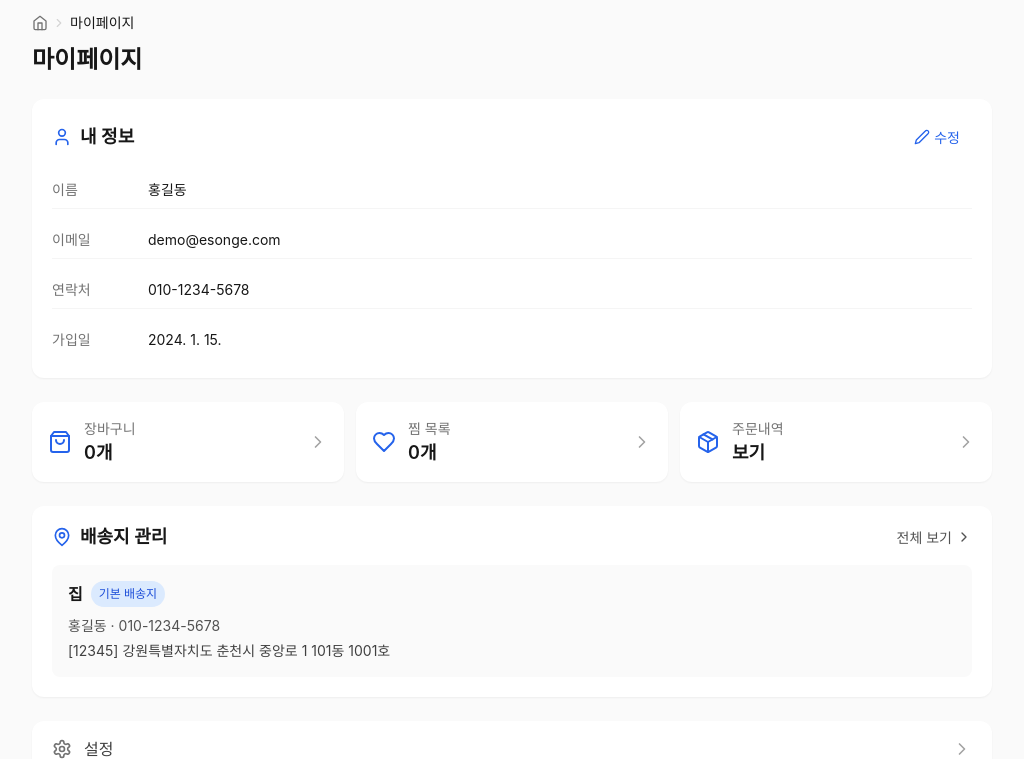
Test case: MyPage › profile editing › should cancel editing when cancel button is clicked
What coordinates should you click on to do the following:
click the button "수정"
I would click on:
 (937, 137)
Its box is x1=902 y1=119 x2=972 y2=155.
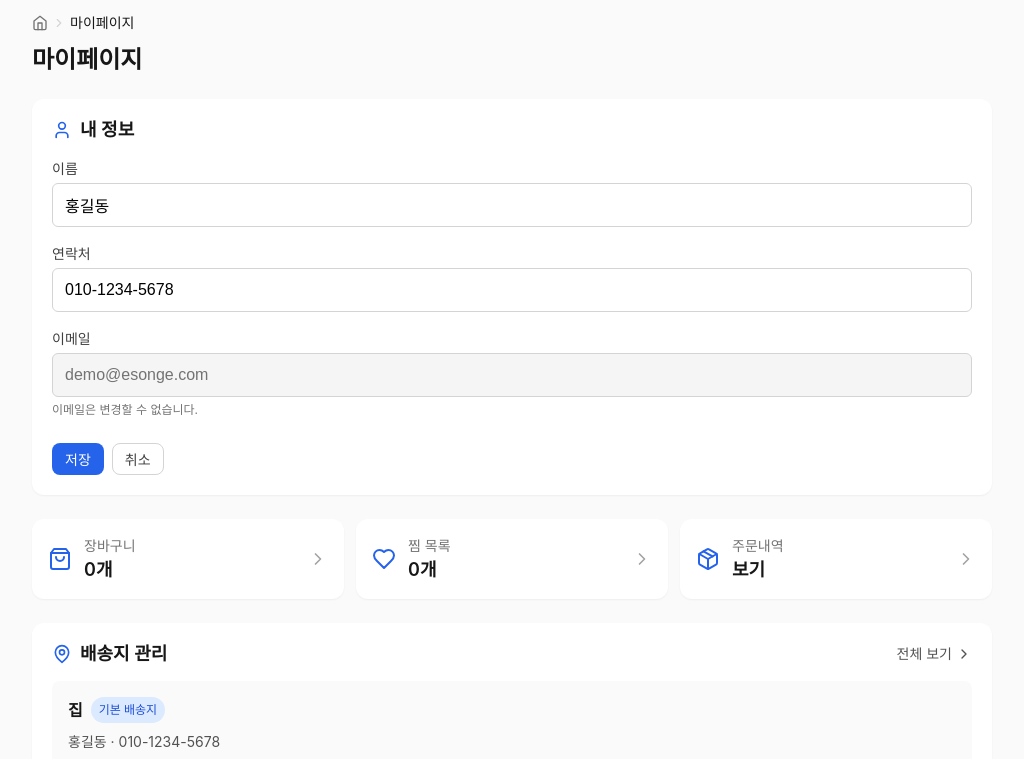
What coordinates should you click on to do the following:
click the button "취소"
I would click on:
 (138, 458)
Its box is x1=112 y1=442 x2=164 y2=474.
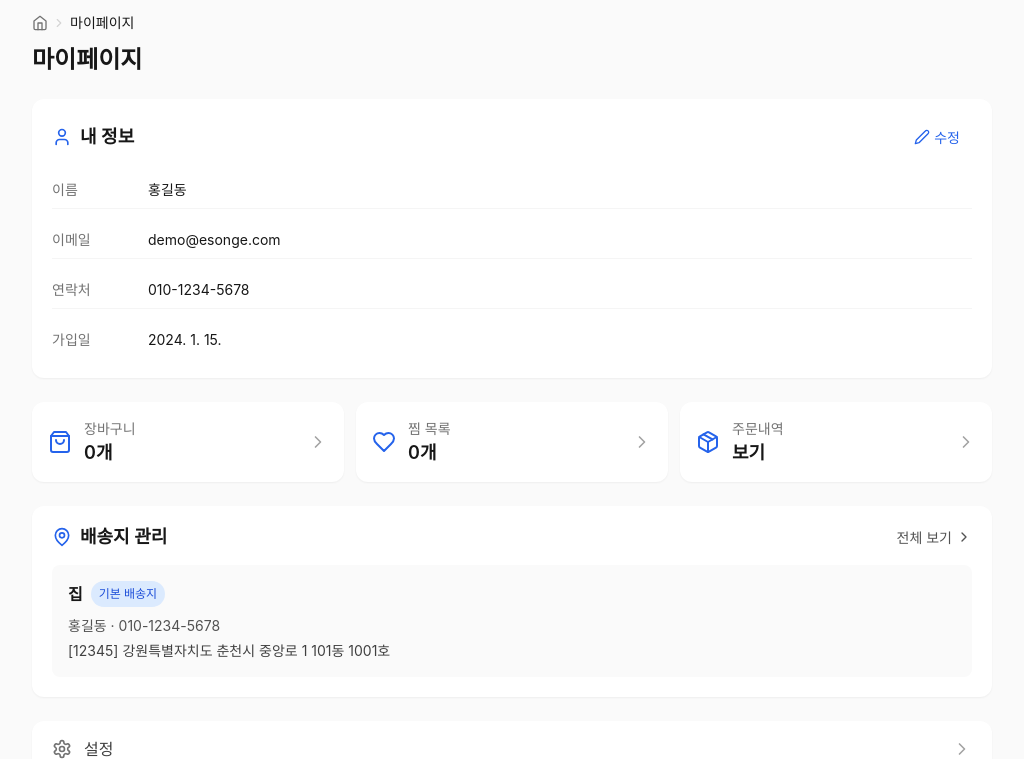
Check: the text "홍길동" is shown, box x1=148 y1=179 x2=187 y2=200
Check: the button "수정" is shown, box x1=902 y1=119 x2=972 y2=155
